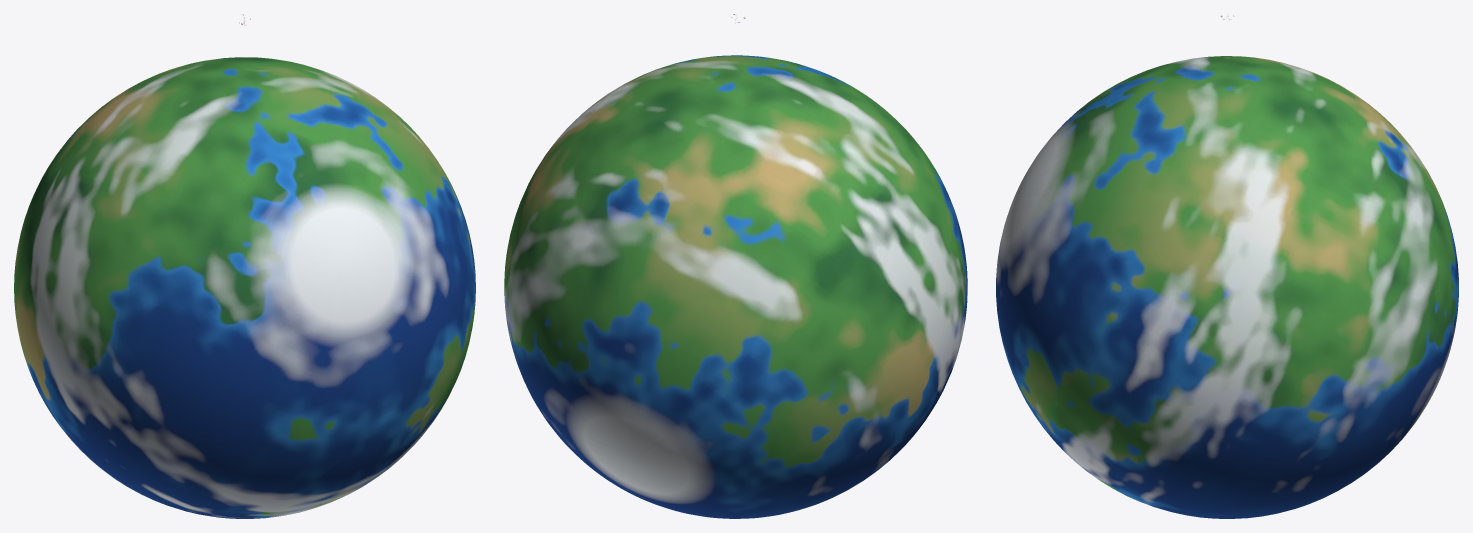
The model's file is zone-4.glb.
The picture shows the model from 3 angles, left to right: view 1: azimuth 30°, elevation 25°; view 2: azimuth 150°, elevation 25°; view 3: azimuth 270°, elevation 25°; orthographic projection.
Parts seen in each view (by area): view 1: SKY_earth; view 2: SKY_earth; view 3: SKY_earth.
Part boxes in pixels (bbox=[...]): SKY_earth: bbox=[14, 57, 475, 518]; SKY_earth: bbox=[504, 55, 967, 518]; SKY_earth: bbox=[996, 56, 1458, 518].
Bounding box in the file's own units: 3200 × 3680 × 3198.
Materials: 9 (8 with a texture image).
